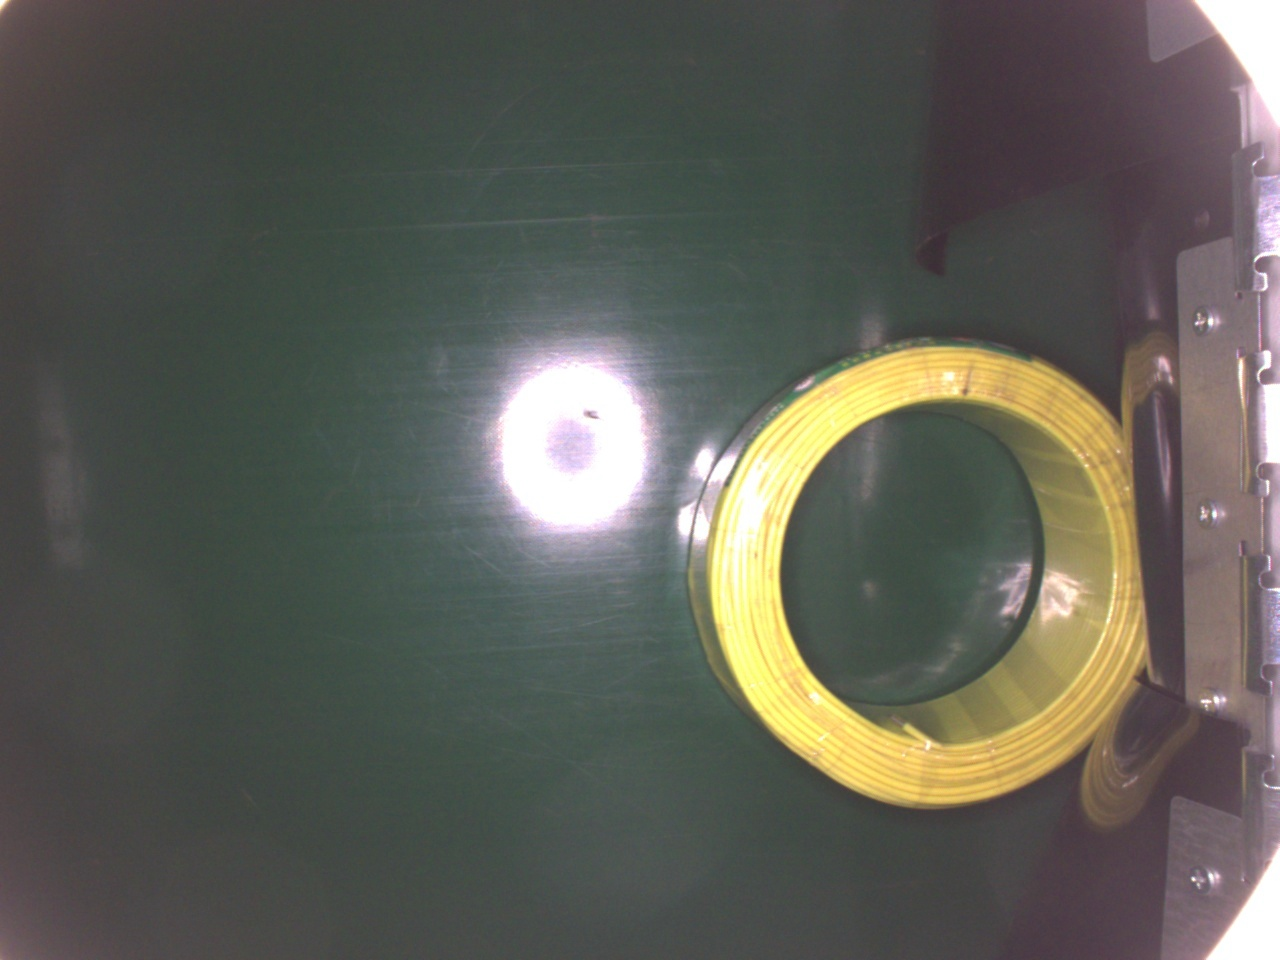yellow: (685, 336, 1147, 809)
